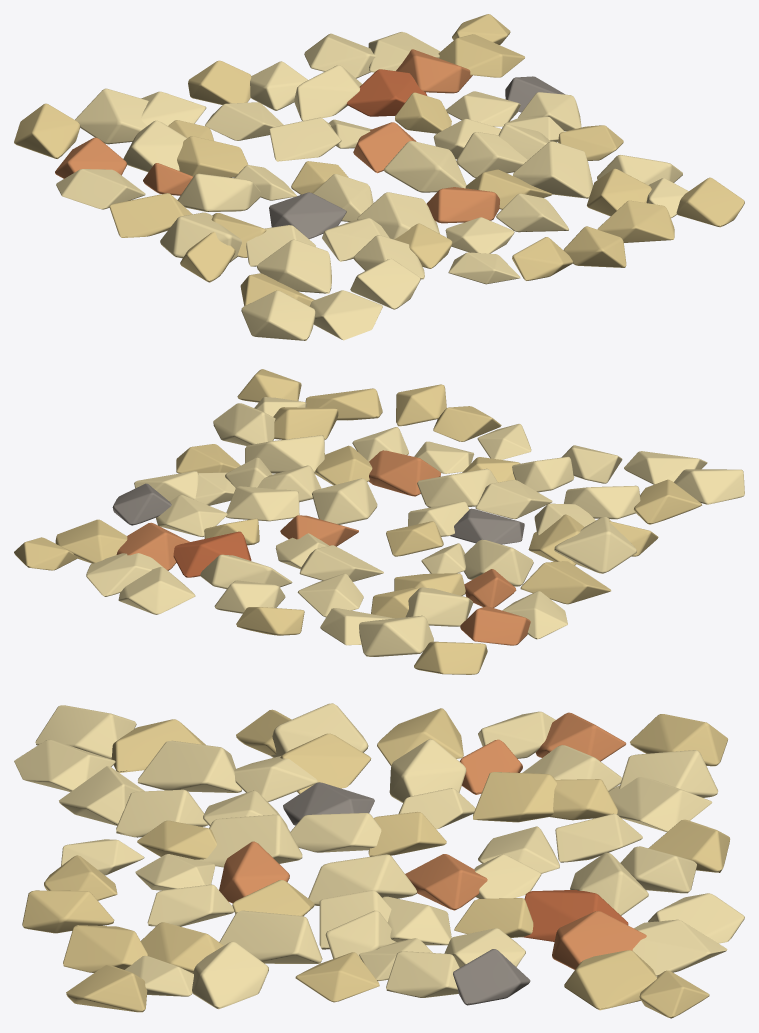
File: minerai_sable_2.glb
3 views of the same model, one above another, from view 1: azimuth 30°, elevation 25°; view 2: azimuth 150°, elevation 25°; view 3: azimuth 270°, elevation 25° (orthographic). The views are drawn at different scales.
Visible parts, largest first — view 1: sable_sable_clair.004, sable_sable.004, sable_gres_clair.004, sable_pierre_claire.004, sable_gres.004; view 2: sable_sable_clair.004, sable_sable.004, sable_gres_clair.004, sable_pierre_claire.004, sable_gres.004; view 3: sable_sable_clair.004, sable_sable.004, sable_gres_clair.004, sable_pierre_claire.004, sable_gres.004.
Boxes of the visible parts, x1,y1,x2,y2 form: sable_sable_clair.004: [56, 32, 688, 340]; sable_sable.004: [14, 14, 744, 306]; sable_gres_clair.004: [55, 49, 499, 223]; sable_pierre_claire.004: [269, 76, 565, 239]; sable_gres.004: [346, 69, 427, 116]; sable_sable_clair.004: [86, 397, 744, 656]; sable_sable.004: [14, 369, 702, 674]; sable_gres_clair.004: [116, 450, 530, 645]; sable_pierre_claire.004: [112, 483, 524, 544]; sable_gres.004: [173, 531, 251, 577]; sable_sable_clair.004: [14, 703, 744, 1009]; sable_sable.004: [22, 708, 730, 1018]; sable_gres_clair.004: [219, 712, 646, 969]; sable_pierre_claire.004: [283, 782, 530, 1005]; sable_gres.004: [522, 889, 628, 941].
Size of the model in its own units: 0.4926 by 0.0312 by 0.511.
